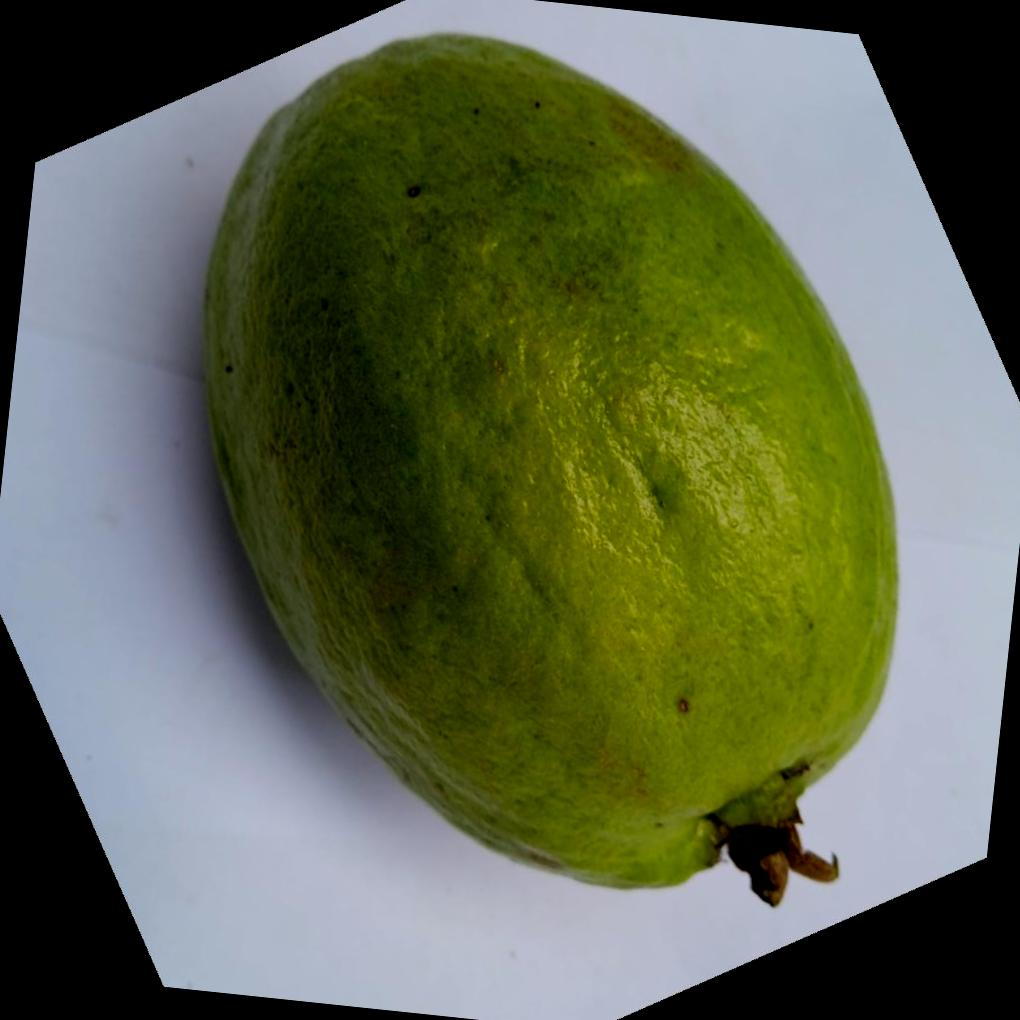FreshGuava: (195, 28, 897, 907)
